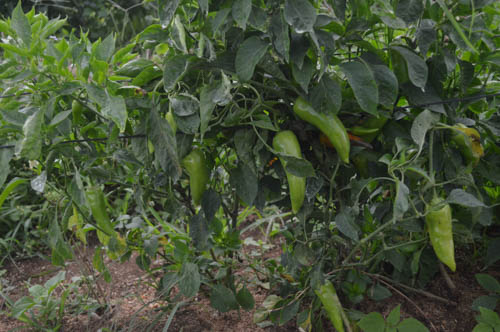ChiliPepper: (293, 98, 353, 165), (269, 130, 308, 214), (425, 196, 466, 275), (85, 186, 130, 246), (308, 274, 348, 332), (177, 148, 213, 210), (448, 116, 481, 168)
